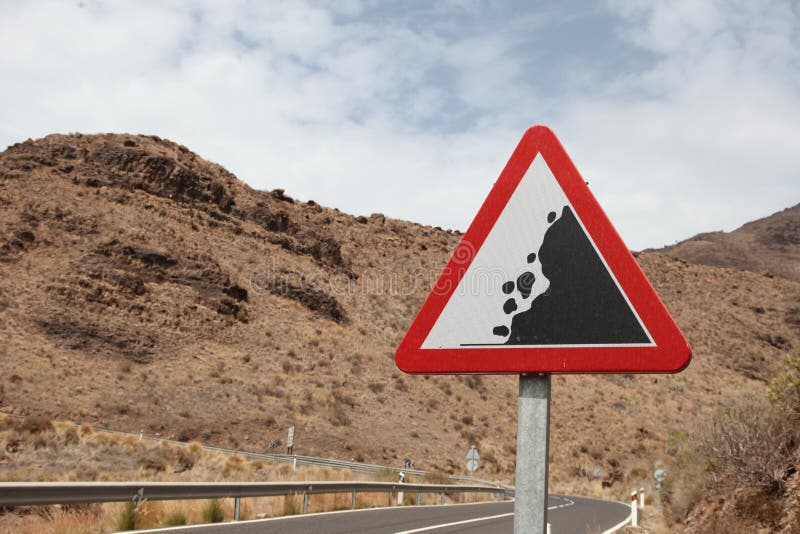FallenSign: (391, 126, 706, 379)
